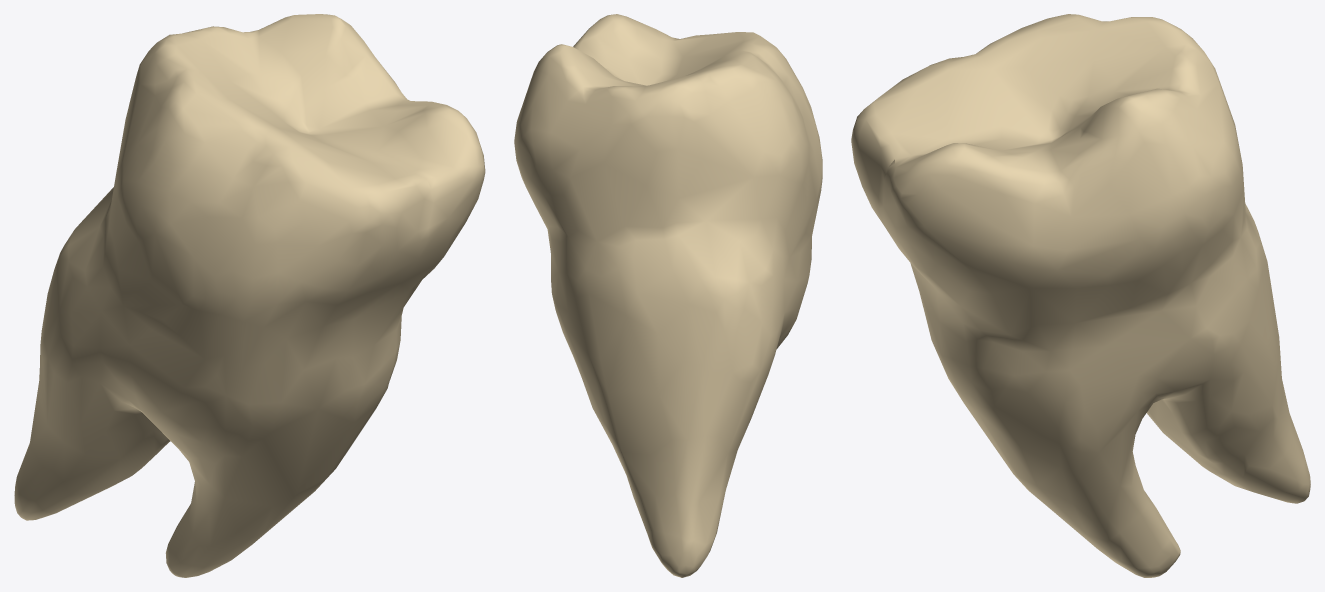
File: tooth-46.glb
3 renders of one model, left to right at view 1: azimuth 30°, elevation 25°; view 2: azimuth 150°, elevation 25°; view 3: azimuth 270°, elevation 25°, orthographic. The views are drawn at different scales.
Visible parts, largest first — view 1: tooth-46; view 2: tooth-46; view 3: tooth-46.
Part boxes in pixels (x1,y1,x2,y2): tooth-46: [14, 14, 485, 577]; tooth-46: [514, 14, 822, 577]; tooth-46: [851, 14, 1310, 577].
Size of the model in its own units: 0.3079 by 0.493 by 0.3778.
